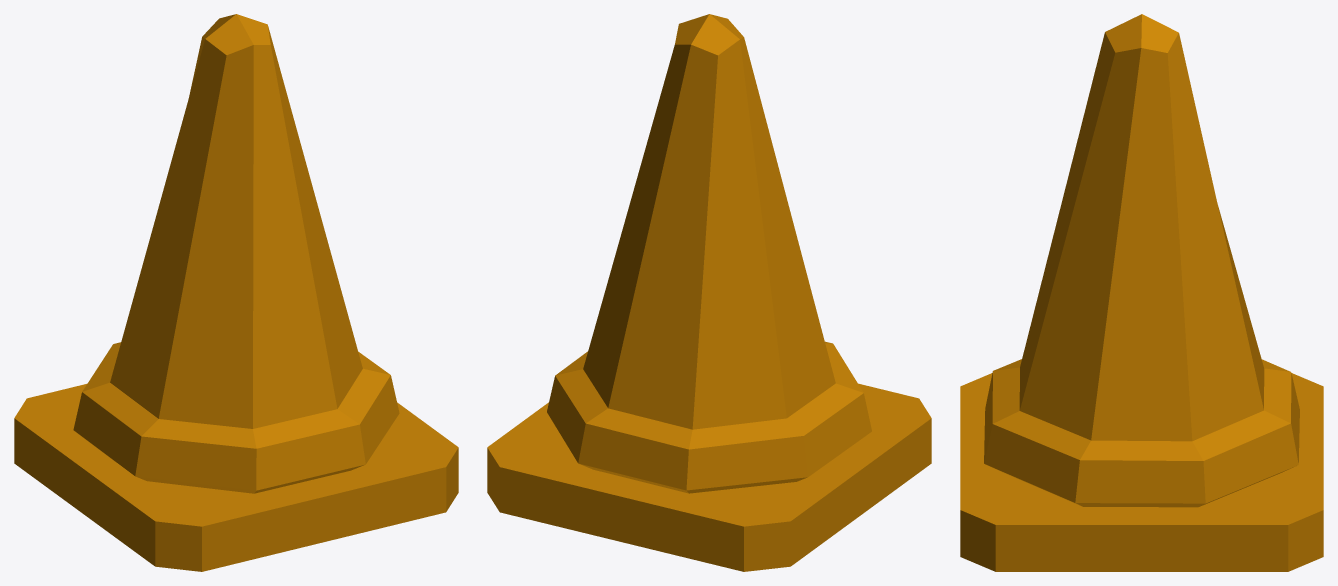
3 renders of one model, left to right at view 1: azimuth 30°, elevation 25°; view 2: azimuth 150°, elevation 25°; view 3: azimuth 270°, elevation 25°, orthographic. The views are drawn at different scales.
Parts seen in each view (by area): view 1: Cube.012; view 2: Cube.012; view 3: Cube.012.
Boxes of the visible parts, x1,y1,x2,y2 form: Cube.012: (14, 14, 458, 571); Cube.012: (487, 14, 931, 571); Cube.012: (960, 14, 1323, 571).
Size of the model in its own units: 33.66 by 49.2 by 33.66.
